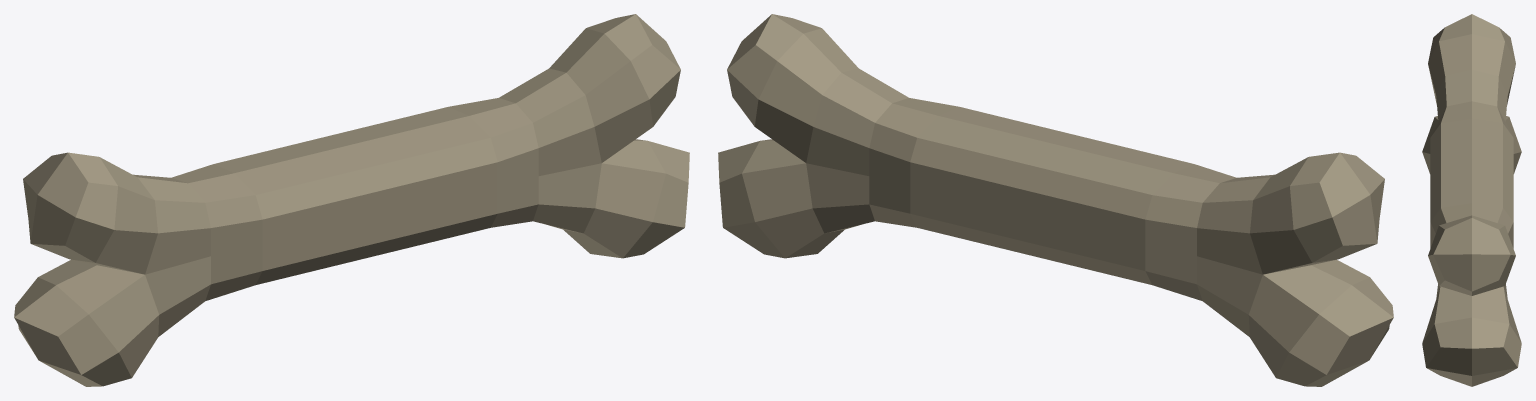
The model's file is Bone.glb.
3 renders of one model, left to right at view 1: azimuth 30°, elevation 25°; view 2: azimuth 150°, elevation 25°; view 3: azimuth 270°, elevation 25°, orthographic. The views are drawn at different scales.
Visible parts, largest first — view 1: Bone; view 2: Bone; view 3: Bone.
Part boxes in pixels (box(x1,y1,x2,y2)): Bone: box(14, 14, 689, 386); Bone: box(718, 14, 1393, 386); Bone: box(1422, 14, 1521, 386).
Bounding box in the file's own units: 0.4071 × 0.1375 × 0.0707.
